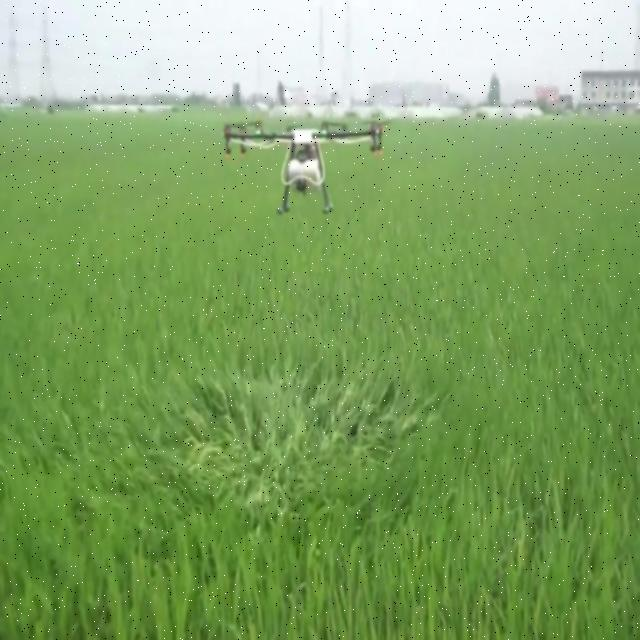UAV: (221, 115, 385, 218)
